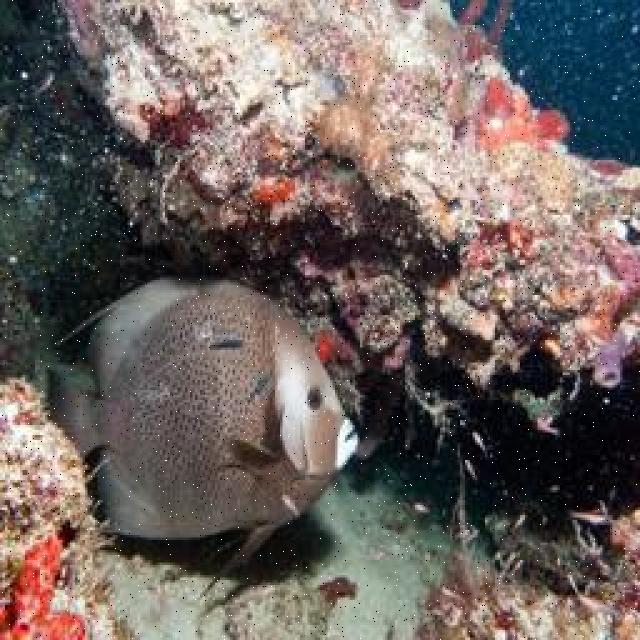fish: (47, 276, 359, 598)
reefs: (46, 0, 638, 417), (0, 379, 135, 638)
